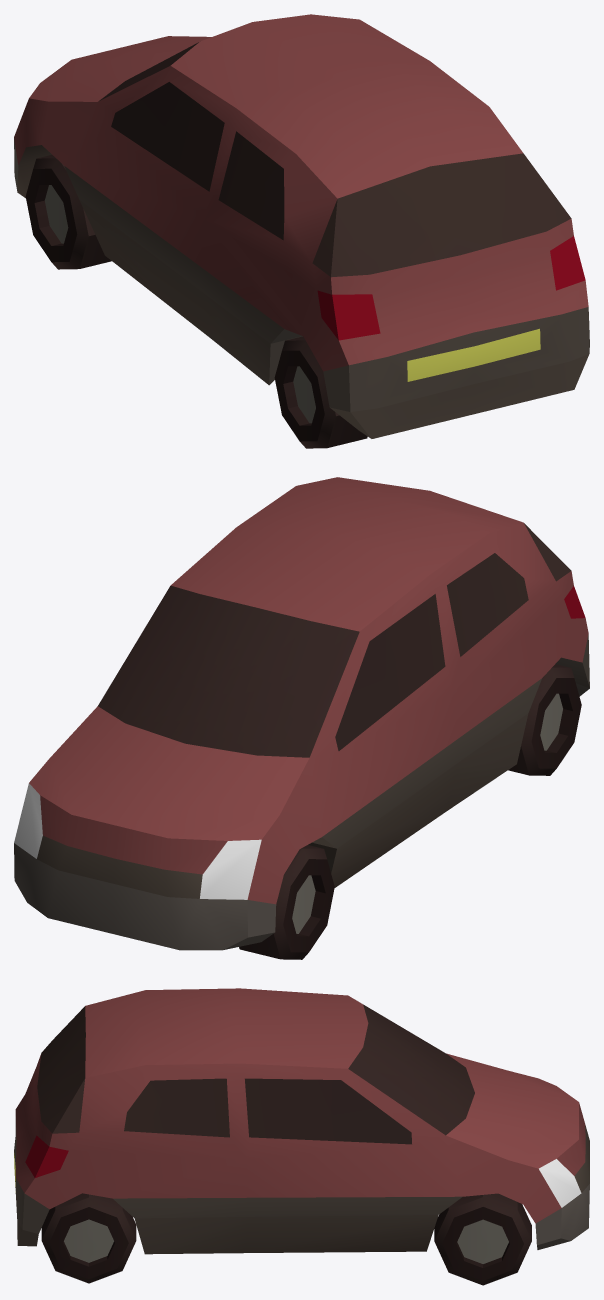
File: ShibuyaCar6.obj
The picture shows the model from 3 angles, top to bottom: view 1: azimuth 30°, elevation 25°; view 2: azimuth 150°, elevation 25°; view 3: azimuth 270°, elevation 25°; orthographic projection. The views are drawn at different scales.
Visible parts, largest first — view 1: Car_Carrosserie, Car_Base; view 2: Car_Carrosserie, Car_Base; view 3: Car_Carrosserie, Car_Base.
Part boxes in pixels (x1,y1,x2,y2): Car_Carrosserie: (14,14,588,371); Car_Base: (14,42,589,448); Car_Carrosserie: (29,477,588,904); Car_Base: (14,523,589,959); Car_Carrosserie: (15,988,585,1223); Car_Base: (14,1004,589,1285).
Bounding box in the file's own units: 1.94 × 1.98 × 4.67.
Materials: 1 (1 with a texture image).
